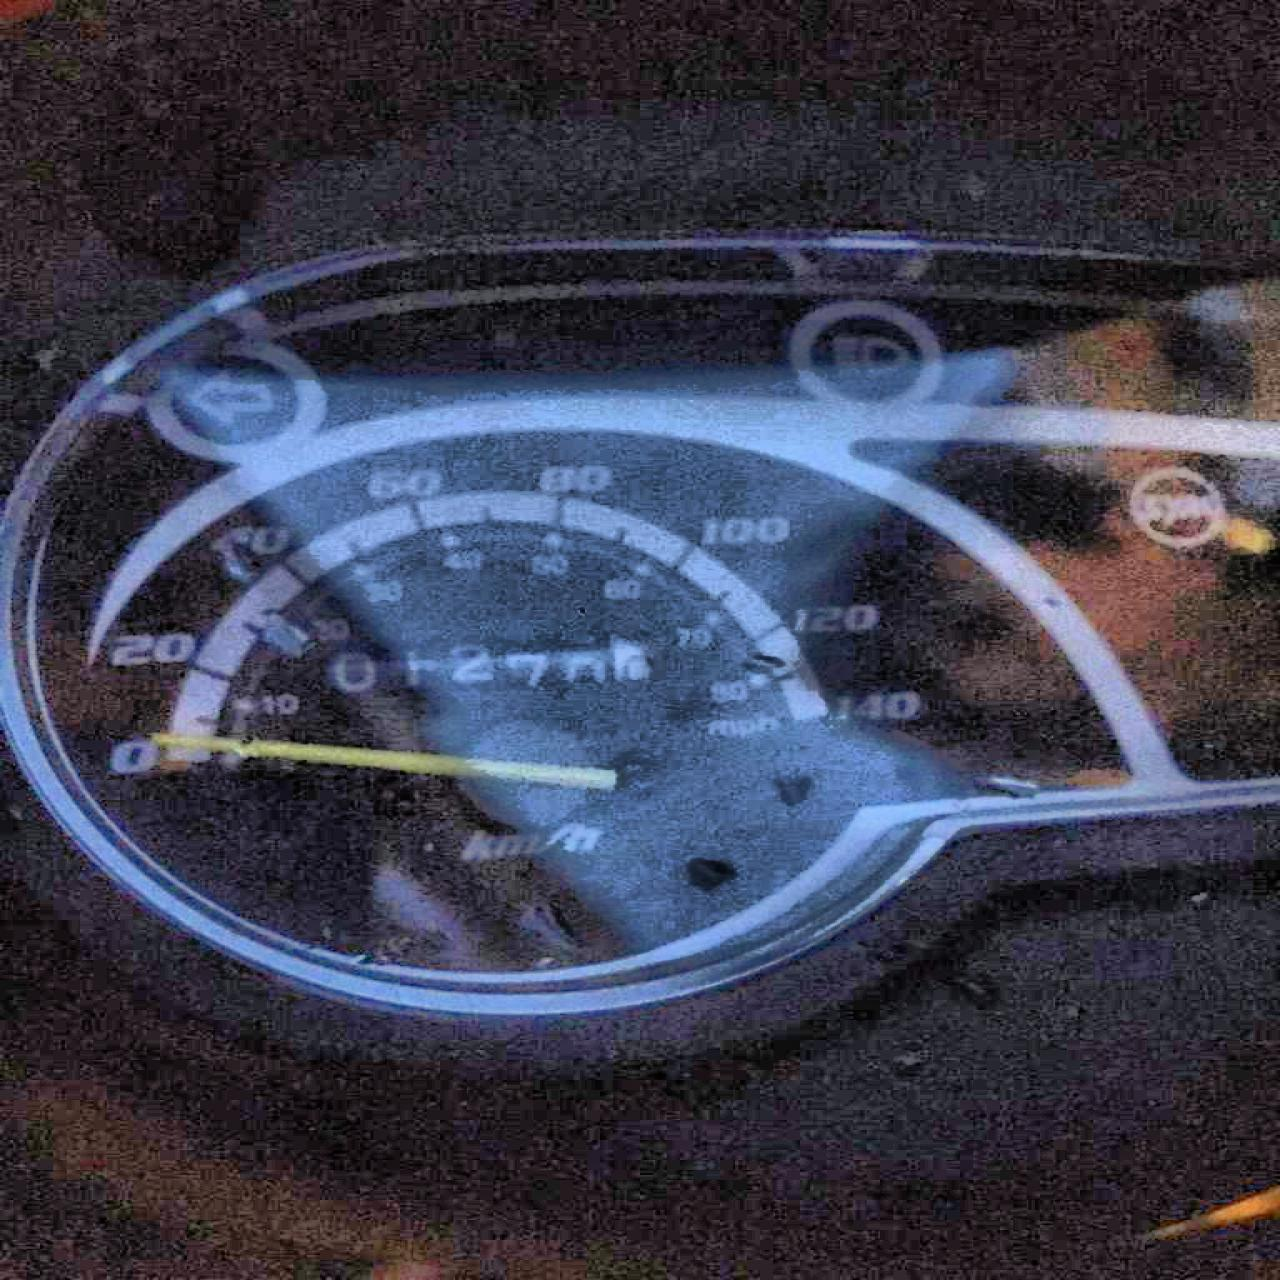0: (328, 653, 376, 696), (565, 654, 607, 695), (617, 654, 660, 694)
1: (392, 646, 431, 695)
2: (447, 644, 496, 688)
7: (505, 651, 550, 692)
odometer: (316, 642, 663, 702)
